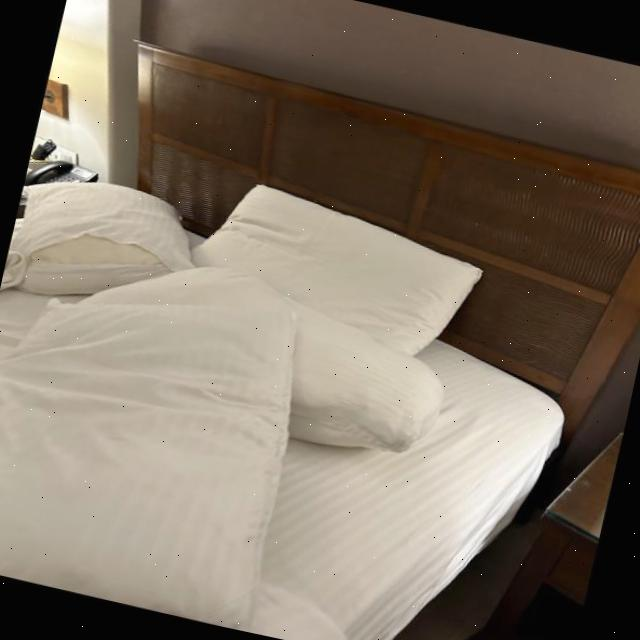Disorganized_pillow: (0, 180, 479, 629)
messy_bed: (0, 40, 640, 640)
